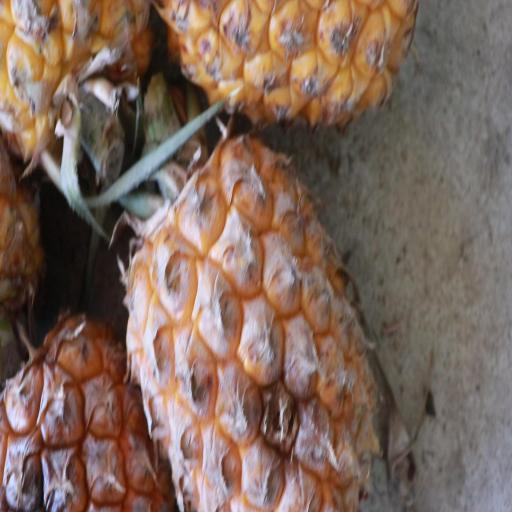Pineapple - v8 v1: (118, 126, 379, 512)
